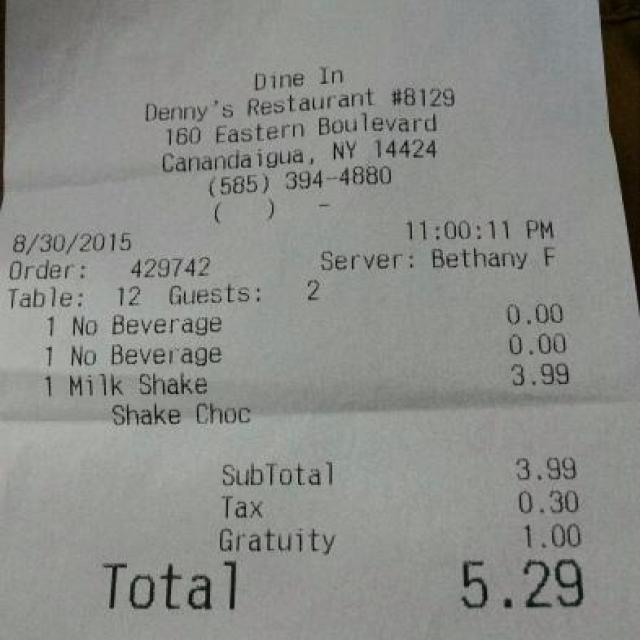TotalPrice: (78, 544, 596, 626)
